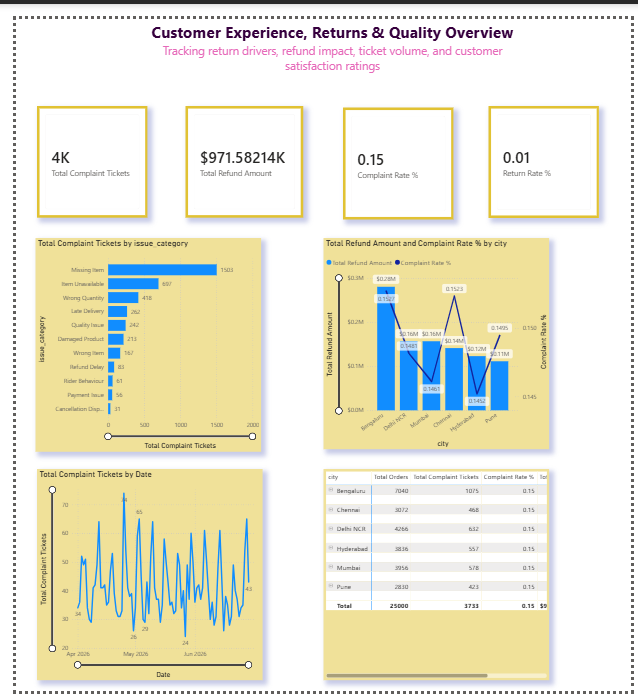

Layout of this report page (visuals, bound fields, positions):
{"tool":"powerbi","page":{"name":"Customer Experience & Returns","canvas":[1280,1400],"ordinal":3},"visuals":[{"type":"textbox","box":[240,0,837.5,117.5],"z":0},{"type":"cardVisual","fields":{"Data":["_Measures.Total Complaint Tickets"]},"box":[45,180,230,232.5],"z":1000},{"type":"cardVisual","fields":{"Data":["_Measures.Total Refund Amount"]},"box":[352.5,182.5,245,232.5],"z":2000},{"type":"cardVisual","fields":{"Data":["_Measures.Complaint Rate %"]},"box":[682.5,185,230,233],"z":3000},{"type":"cardVisual","fields":{"Data":["_Measures.Return Rate %"]},"box":[985,180,230,233],"z":4000},{"type":"clusteredBarChart","fields":{"Category":["returns_complaints.issue_category"],"Y":["_Measures.Total Complaint Tickets"]},"box":[40,457.5,470,445],"z":5000},{"type":"lineClusteredColumnComboChart","fields":{"Category":["stores.city"],"Y":["_Measures.Total Refund Amount"],"Y2":["_Measures.Complaint Rate %"]},"box":[640,457.5,470,440],"z":6000},{"type":"lineChart","fields":{"Category":["Dim_Date.Date"],"Y":["_Measures.Total Complaint Tickets"]},"box":[45,937.5,470,440],"z":7000},{"type":"pivotTable","fields":{"Rows":["stores.city","stores.store_name"],"Values":["_Measures.Total Orders","_Measures.Total Complaint Tickets","_Measures.Complaint Rate %","_Measures.Total Refund Amount"]},"box":[640,938,470,440],"z":8000}]}

Visuals, with their boxes in screenshot pixels (x1, y1, x2, y2), scaled from the page's 1280x1400 canvas onto the 638x695 screenshot:
textbox: (120, 0, 537, 58)
cardVisual - _Measures.Total Complaint Tickets: (22, 89, 137, 205)
cardVisual - _Measures.Total Refund Amount: (176, 91, 298, 206)
cardVisual - _Measures.Complaint Rate %: (340, 92, 455, 208)
cardVisual - _Measures.Return Rate %: (491, 89, 606, 205)
clusteredBarChart - returns_complaints.issue_category x _Measures.Total Complaint Tickets: (20, 227, 254, 448)
lineClusteredColumnComboChart - stores.city x _Measures.Total Refund Amount: (319, 227, 553, 446)
lineChart - Dim_Date.Date x _Measures.Total Complaint Tickets: (22, 465, 257, 684)
pivotTable - stores.city x stores.store_name: (319, 466, 553, 684)
